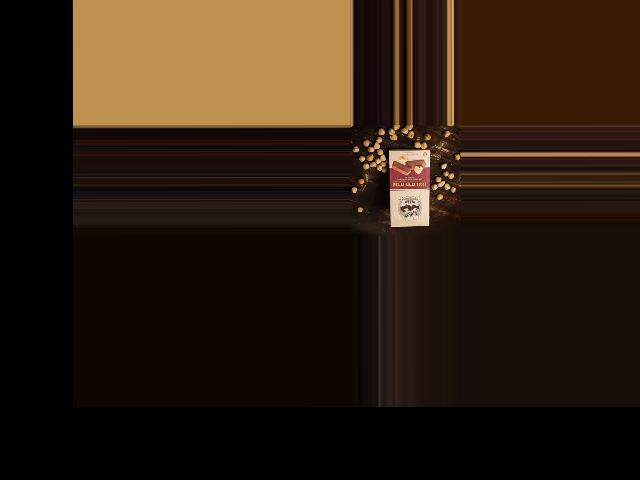chocolate: (385, 147, 432, 228)
